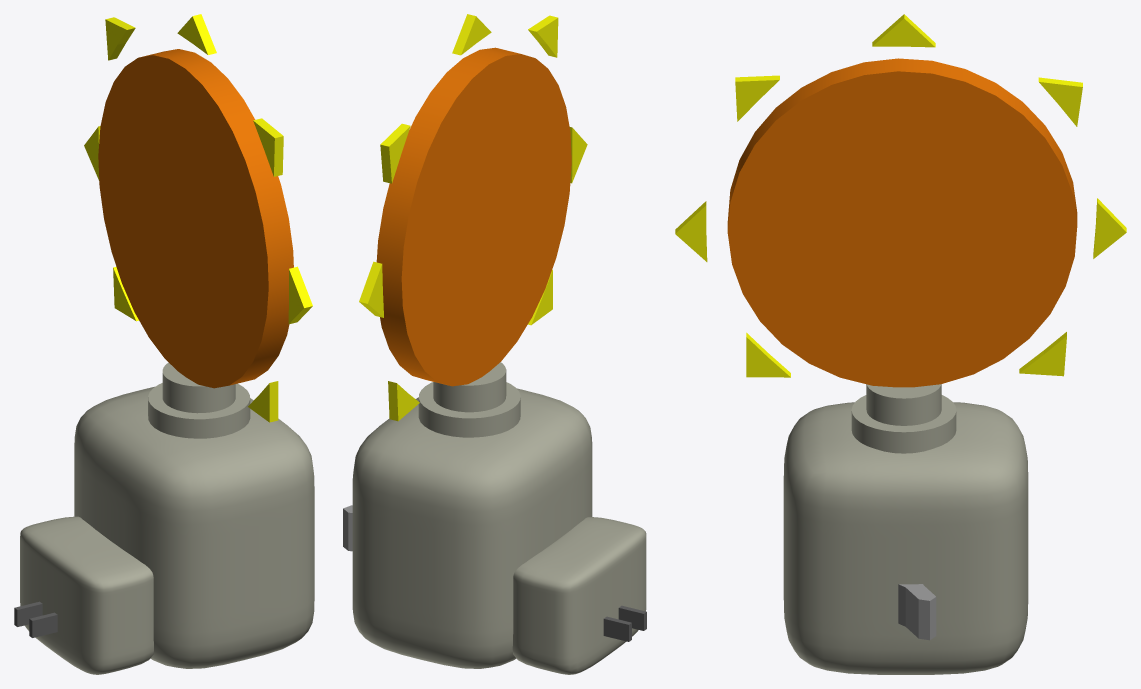
Rendered from SolLamp.fbx.
3 renders of one model, left to right at view 1: azimuth 30°, elevation 25°; view 2: azimuth 150°, elevation 25°; view 3: azimuth 270°, elevation 25°, orthographic. The views are drawn at different scales.
Parts seen in each view (by area): view 1: Cilindro.002, Cubo.011, Cubo.012, Cilindro.003, Plano.005, Plano.003, Plano.002, Plano.006, Plano.007, Plano.008, Cubo.015, Cubo.014 (+1 smaller); view 2: Cilindro.002, Cubo.011, Cubo.012, Cilindro.003, Plano.006, Plano.004, Plano.002, Plano.005, Plano.008, Cubo.014, Plano.003, Plano.007 (+1 smaller); view 3: Cilindro.002, Cubo.011, Cilindro.003, Cubo.013, Plano.002, Plano.008, Plano.007, Plano.006, Plano.005, Plano.004, Plano.003.
Part boxes in pixels (x1,y1,x2,y2): Cilindro.002: [98, 49, 293, 388]; Cubo.011: [74, 386, 314, 668]; Cubo.012: [20, 516, 153, 674]; Cilindro.003: [148, 362, 250, 438]; Plano.005: [253, 118, 283, 176]; Plano.003: [288, 266, 312, 324]; Plano.002: [177, 14, 216, 54]; Plano.006: [105, 17, 135, 60]; Plano.007: [248, 381, 278, 422]; Plano.008: [113, 267, 138, 321]; Cubo.015: [29, 612, 57, 637]; Cubo.014: [14, 601, 42, 626]; Cilindro.002: [376, 47, 571, 386]; Cubo.011: [352, 388, 592, 668]; Cubo.012: [512, 517, 646, 674]; Cilindro.003: [418, 362, 520, 437]; Plano.006: [380, 123, 410, 183]; Plano.004: [359, 261, 383, 317]; Plano.002: [452, 14, 491, 55]; Plano.005: [528, 15, 558, 57]; Plano.008: [388, 381, 419, 421]; Cubo.014: [603, 616, 631, 641]; Plano.003: [569, 127, 587, 183]; Plano.007: [528, 269, 552, 325]; Cilindro.002: [727, 58, 1077, 387]; Cubo.011: [783, 402, 1028, 674]; Cilindro.003: [851, 384, 956, 453]; Cubo.013: [898, 584, 936, 640]; Plano.002: [872, 14, 935, 47]; Plano.008: [1019, 332, 1066, 376]; Plano.007: [746, 332, 790, 377]; Plano.006: [1038, 77, 1082, 126]; Plano.005: [735, 75, 779, 121]; Plano.004: [1093, 198, 1126, 258]; Plano.003: [675, 201, 707, 261].
Size of the model in its own units: 194 by 400 by 258.
